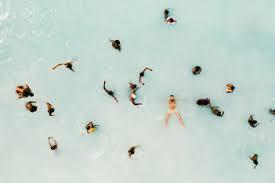Person: (161, 92, 188, 130), (101, 79, 124, 106), (47, 58, 77, 75), (12, 81, 35, 101), (137, 63, 155, 87), (126, 140, 144, 163), (80, 119, 102, 137), (126, 92, 146, 110), (244, 113, 263, 130), (45, 136, 60, 155), (249, 150, 261, 173), (108, 37, 123, 54), (210, 105, 228, 119), (44, 98, 56, 117), (25, 100, 40, 114), (195, 97, 213, 108), (128, 81, 140, 97), (225, 79, 235, 96), (191, 66, 204, 77), (160, 8, 171, 20), (166, 15, 178, 26), (269, 105, 275, 120)
